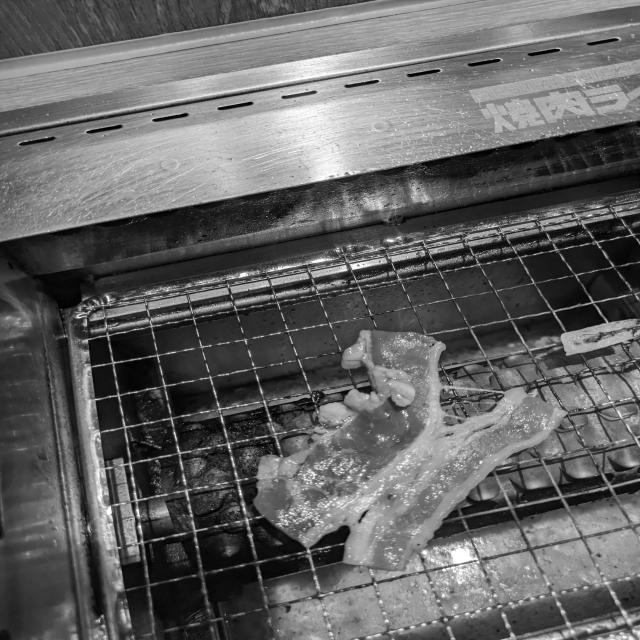NG raw beef,: (213, 313, 589, 579)
